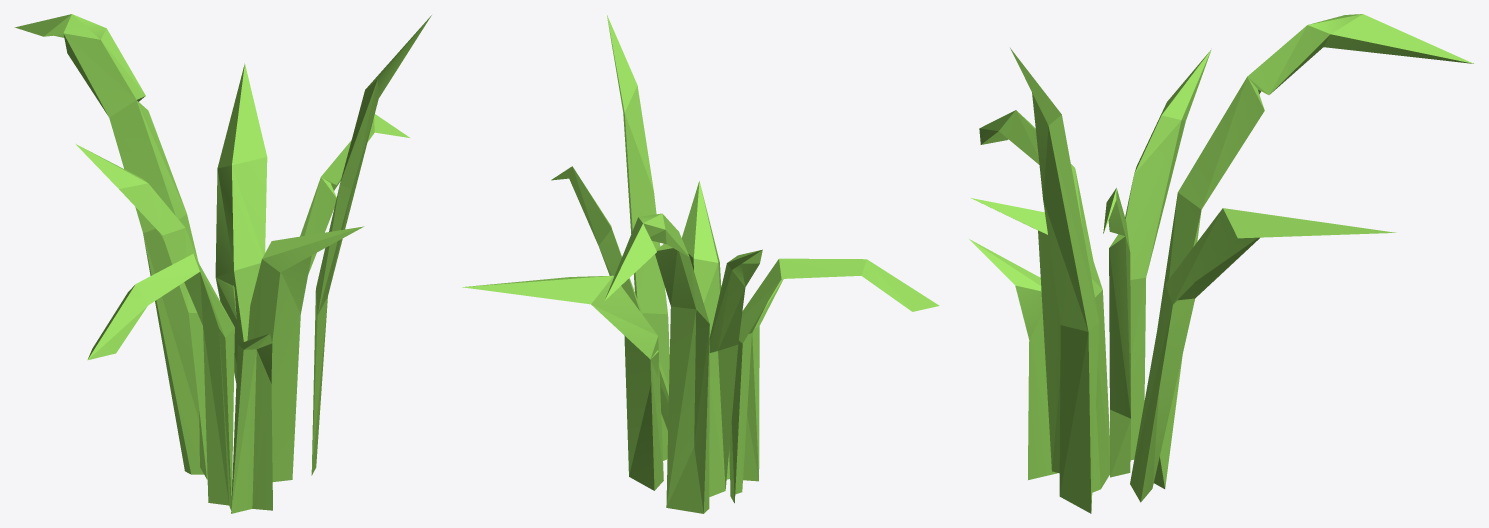
The model's file is grass_03.fbx.
3 views of the same model, side by side, from view 1: azimuth 30°, elevation 25°; view 2: azimuth 150°, elevation 25°; view 3: azimuth 270°, elevation 25° (orthographic). The views are drawn at different scales.
Parts seen in each view (by area): view 1: grass_01; view 2: grass_01; view 3: grass_01.
Boxes of the visible parts, x1=… form: grass_01: x1=14, y1=14, x2=431, y2=513; grass_01: x1=462, y1=15, x2=939, y2=513; grass_01: x1=969, y1=14, x2=1473, y2=513.
Size of the model in its own units: 35.26 by 42.05 by 36.87.
